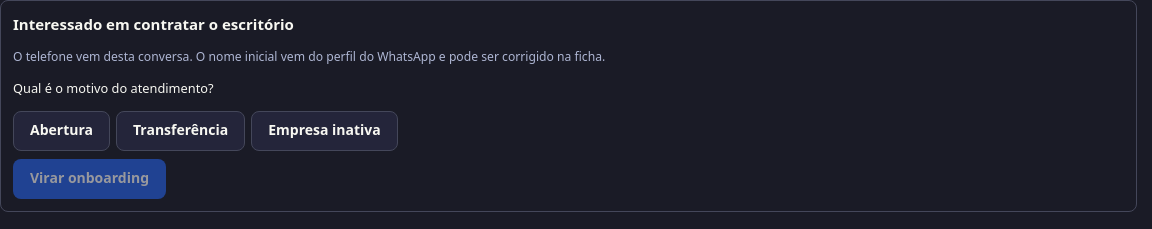
releitura encontra ficha criada por outro atendimento e impede duplicação
The image size is (1152, 229).
Click the button "Abertura": (62, 131) [13, 111, 110, 151]
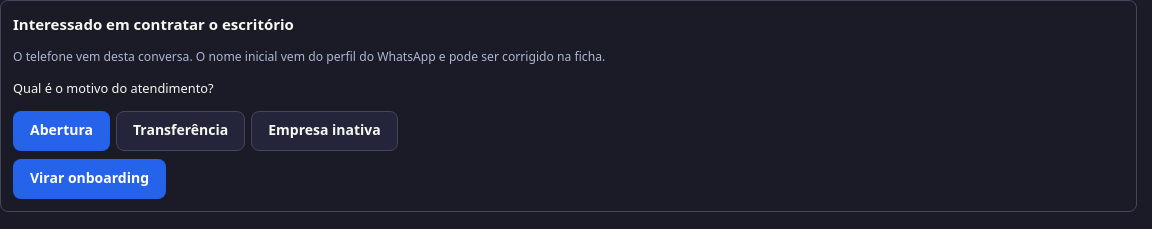
Click the button "Virar onboarding": (90, 179) [13, 159, 166, 199]
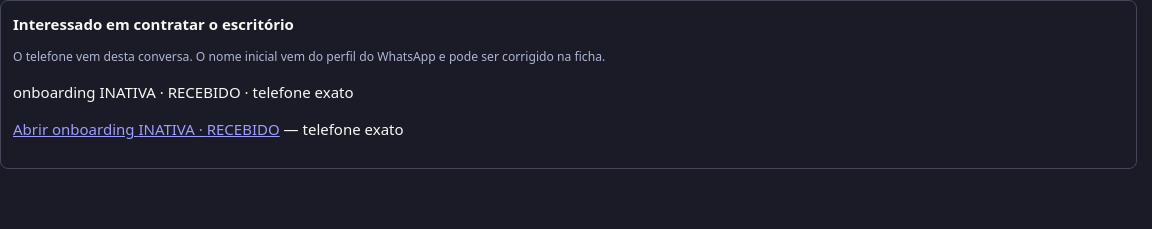
Expected: the link "Abrir onboarding INATIVA · RECEBIDO" is shown, [13, 119, 280, 139]
